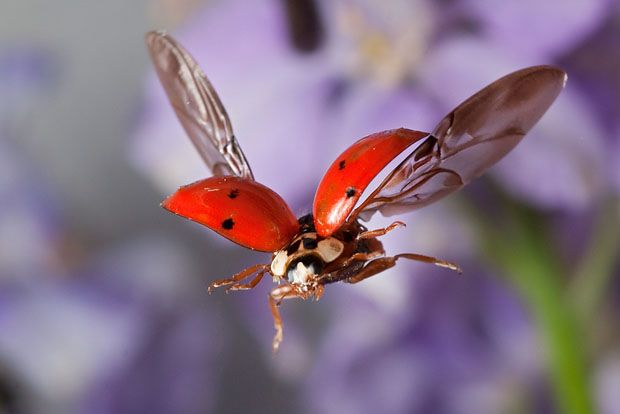insect: (142, 31, 567, 351)
